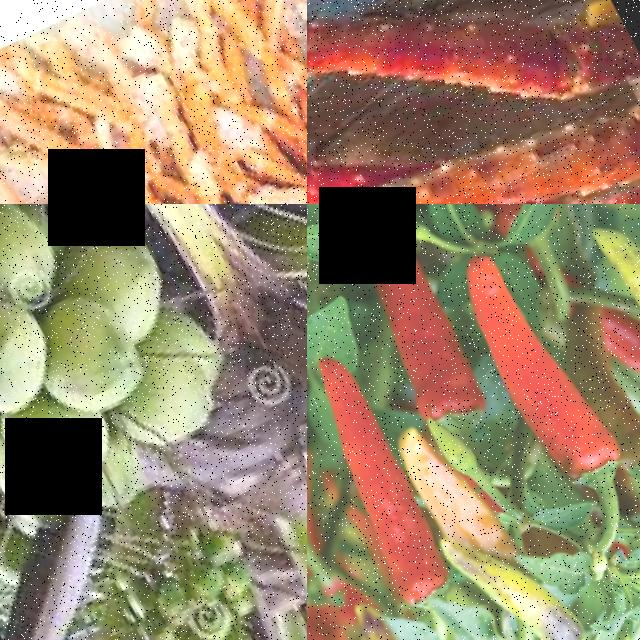chilli: (427, 229, 636, 514), (307, 339, 471, 615), (332, 219, 498, 437), (585, 204, 640, 404)
coconuts: (0, 204, 247, 560), (102, 506, 276, 640)
crab: (307, 0, 640, 204), (314, 44, 640, 204), (106, 1, 307, 204), (0, 84, 298, 204), (0, 83, 190, 204)
